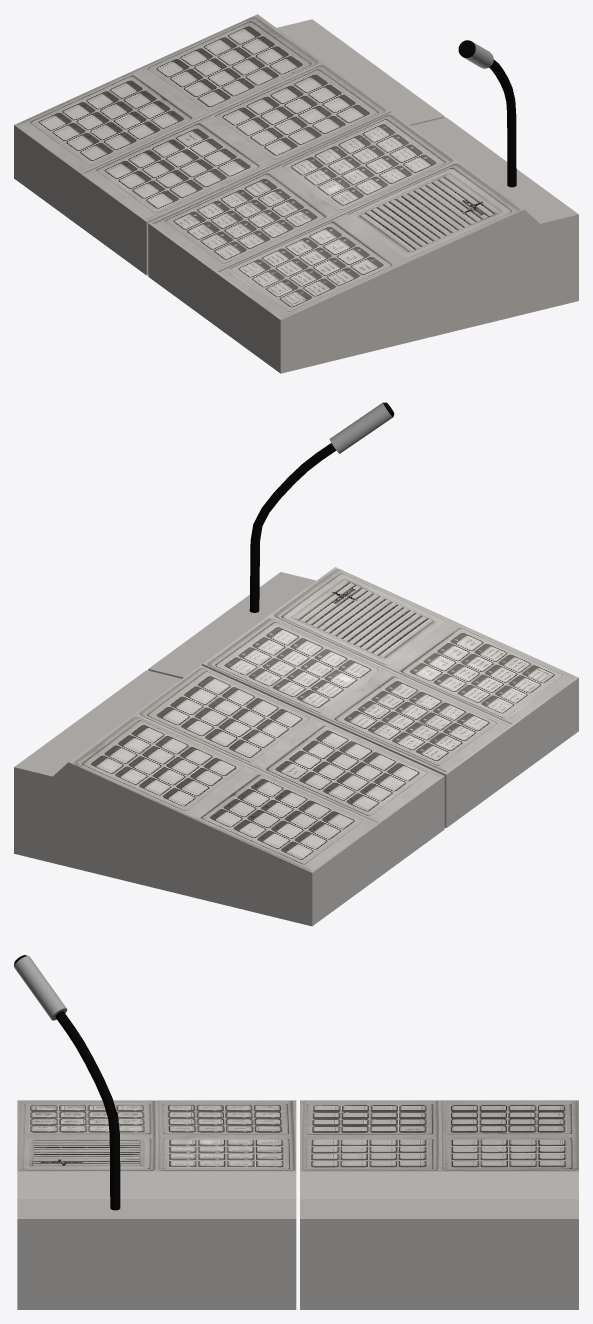
File: Microphone.glb
3 renders of one model, top to bottom at view 1: azimuth 30°, elevation 25°; view 2: azimuth 150°, elevation 25°; view 3: azimuth 270°, elevation 25°, orthographic. The views are drawn at different scales.
Visible parts, largest first — view 1: Mikrofon; view 2: Mikrofon; view 3: Mikrofon.
Boxes of the visible parts, box(x1,y1,x2,y2) form: Mikrofon: box(14, 14, 578, 373); Mikrofon: box(14, 402, 578, 926); Mikrofon: box(14, 955, 578, 1309).
Size of the model in its own units: 0.265 by 0.241 by 0.4129.
6 materials, 2 textured.
